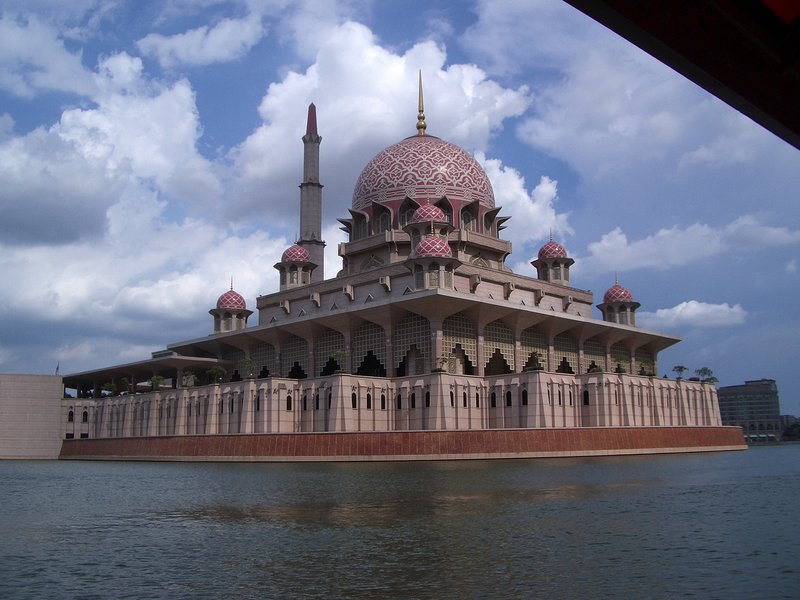Mosque: (69, 78, 725, 454)
